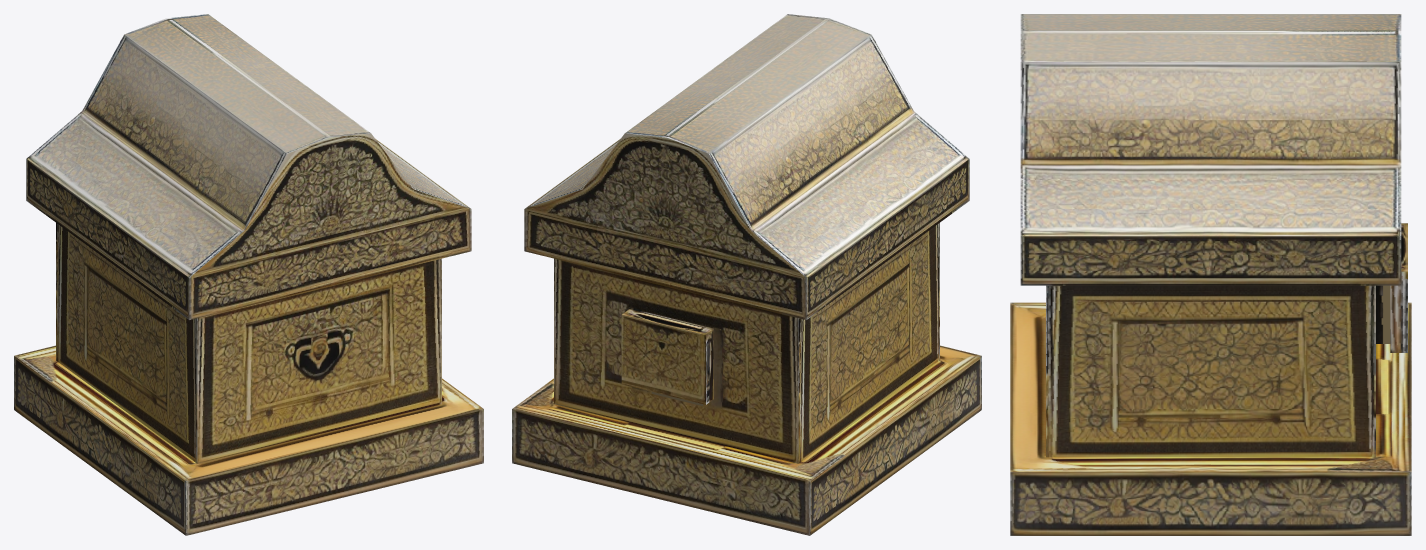
The model's file is treasure_chest.glb.
3 renders of one model, left to right at view 1: azimuth 30°, elevation 25°; view 2: azimuth 150°, elevation 25°; view 3: azimuth 270°, elevation 25°, orthographic. The views are drawn at different scales.
Visible parts, largest first — view 1: mesh; view 2: mesh; view 3: mesh.
Part boxes in pixels (x1,y1,x2,y2): mesh: (14,14,483,535); mesh: (512,14,981,535); mesh: (1010,14,1411,535).
Bounding box in the file's own units: 0.6578 × 0.758 × 0.6578.
Materials: 1 (1 with a texture image).
